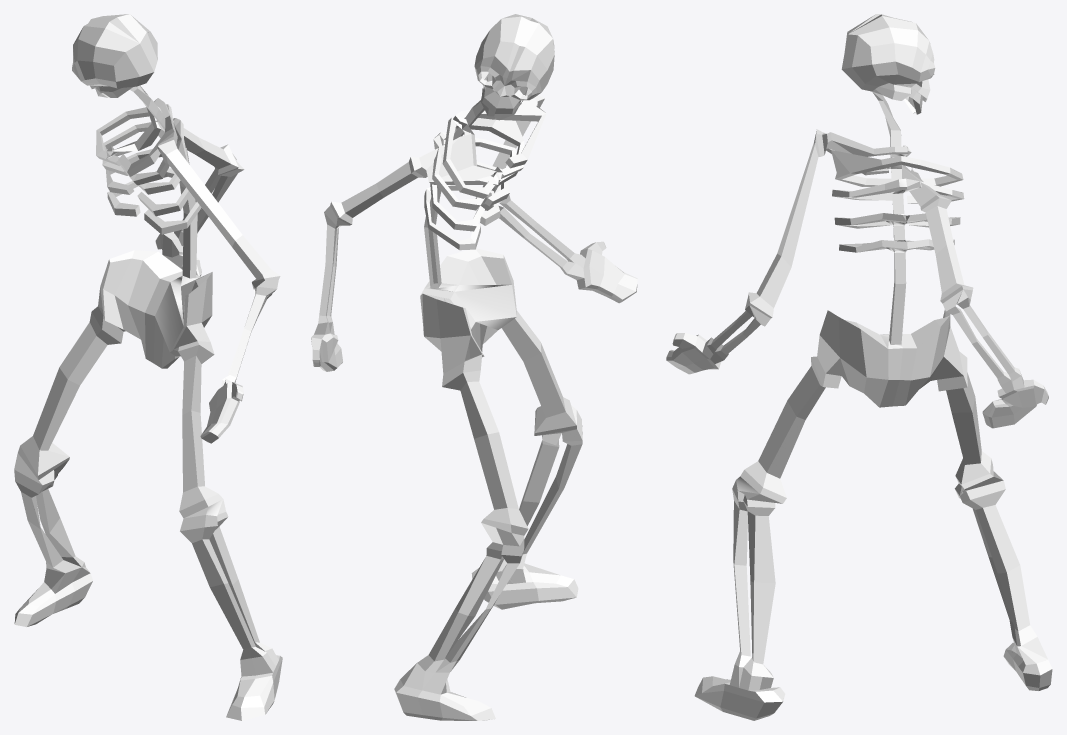
File: SkeletonIdle(70).obj
3 views of the same model, side by side, from view 1: azimuth 30°, elevation 25°; view 2: azimuth 150°, elevation 25°; view 3: azimuth 270°, elevation 25° (orthographic).
Visible parts, largest first — view 1: Object002; view 2: Object002; view 3: Object002.
Part boxes in pixels (<box>): Object002: <box>14,14,282,720</box>; Object002: <box>311,14,637,720</box>; Object002: <box>666,14,1052,720</box>.
Bounding box in the file's own units: 383 × 1132 × 601.
